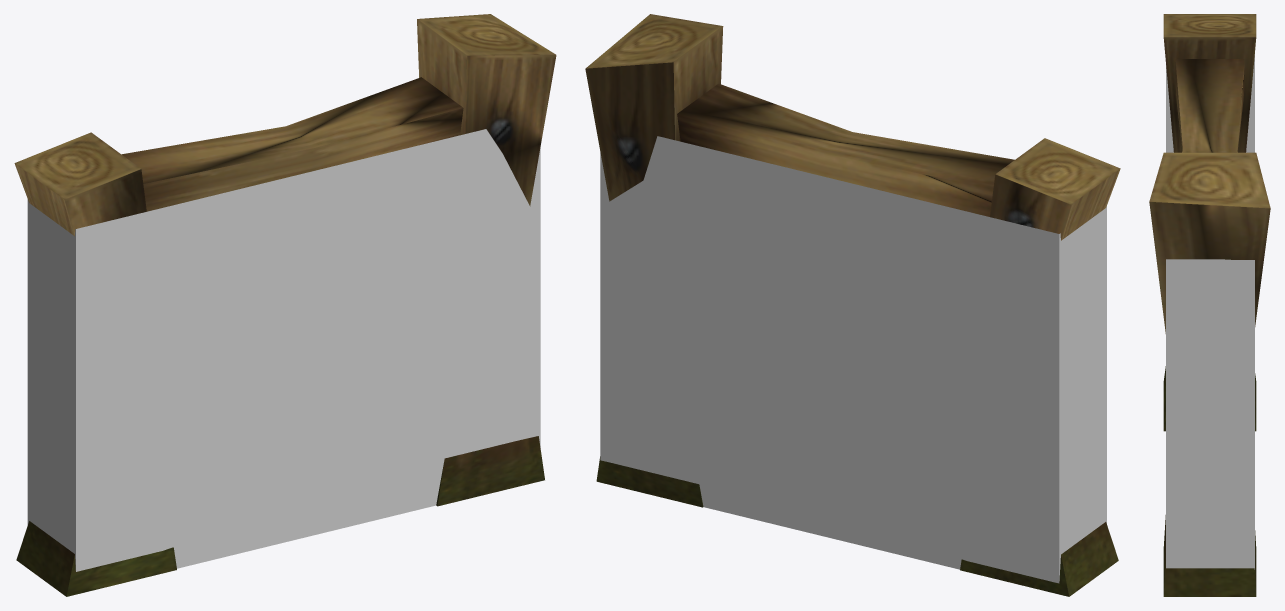
Rendered from Gonggaolan_01_a.FBX.
The picture shows the model from 3 angles, left to right: view 1: azimuth 30°, elevation 25°; view 2: azimuth 150°, elevation 25°; view 3: azimuth 270°, elevation 25°; orthographic projection. The views are drawn at different scales.
Visible parts, largest first — view 1: Box001, Gonggaolan; view 2: Box001, Gonggaolan; view 3: Box001, Gonggaolan.
Boxes of the visible parts, x1,y1,x2,y2 form: Box001: (27,129,540,571); Gonggaolan: (14,14,556,596); Box001: (600,136,1106,583); Gonggaolan: (585,14,1120,596); Box001: (1166,54,1254,569); Gonggaolan: (1149,14,1270,596).
Bounding box in the file's own units: 4.13 × 3.62 × 0.9722.
Materials: 1 (1 with a texture image).
